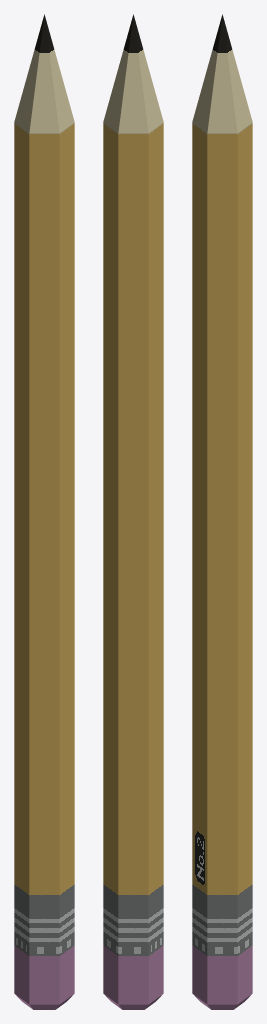
File: longpencil.glb
3 views of the same model, side by side, from view 1: azimuth 90°, elevation 25°; view 2: azimuth 210°, elevation 25°; view 3: azimuth 270°, elevation 25° (orthographic).
Visible parts, largest first — view 1: Cylinder; view 2: Cylinder; view 3: Cylinder.
Boxes of the visible parts, x1=… form: Cylinder: x1=14, y1=14, x2=74, y2=1009; Cylinder: x1=103, y1=14, x2=163, y2=1009; Cylinder: x1=192, y1=14, x2=252, y2=1009.
Bounding box in the file's own units: 0.6582 × 13.67 × 0.76.
Materials: 1 (1 with a texture image).
